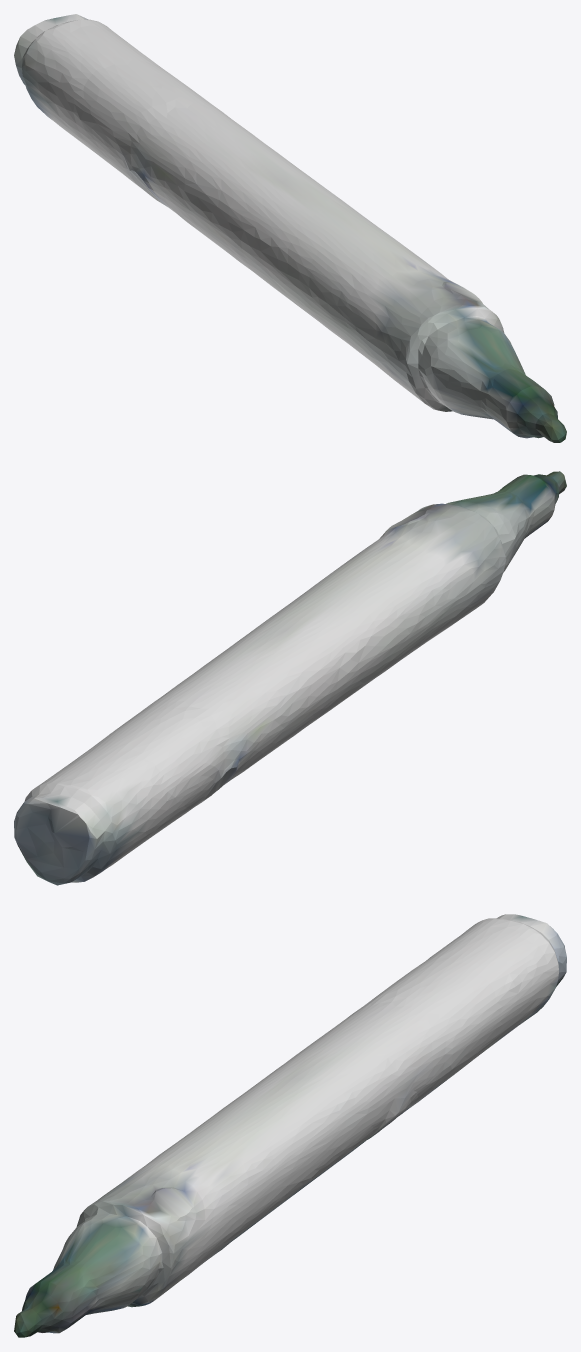
3 views of the same model, one above another, from view 1: azimuth 30°, elevation 25°; view 2: azimuth 150°, elevation 25°; view 3: azimuth 330°, elevation 25° (orthographic).
Parts seen in each view (by area): view 1: scan.ply; view 2: scan.ply; view 3: scan.ply.
Boxes of the visible parts, box(x1,y1,x2,y2) form: scan.ply: box(14, 14, 566, 442); scan.ply: box(14, 471, 566, 885); scan.ply: box(14, 914, 566, 1337).
Bounding box in the file's own units: 0.0161 × 0.0164 × 0.1439.
